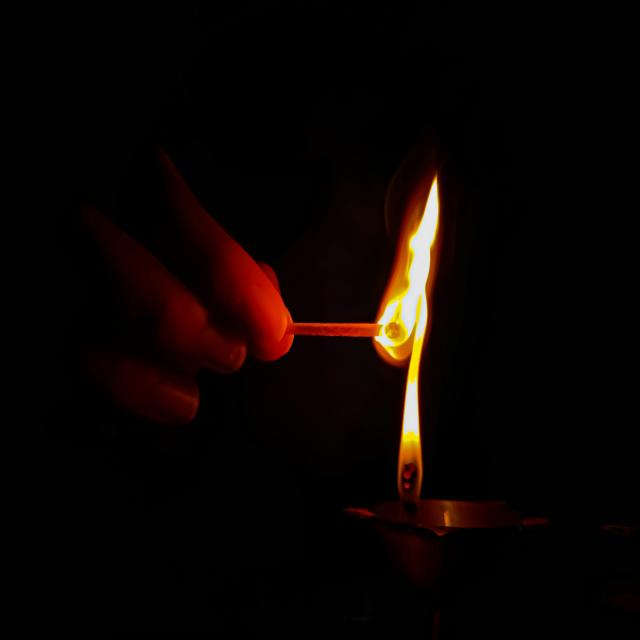fire: (375, 175, 437, 368), (399, 296, 428, 498)
